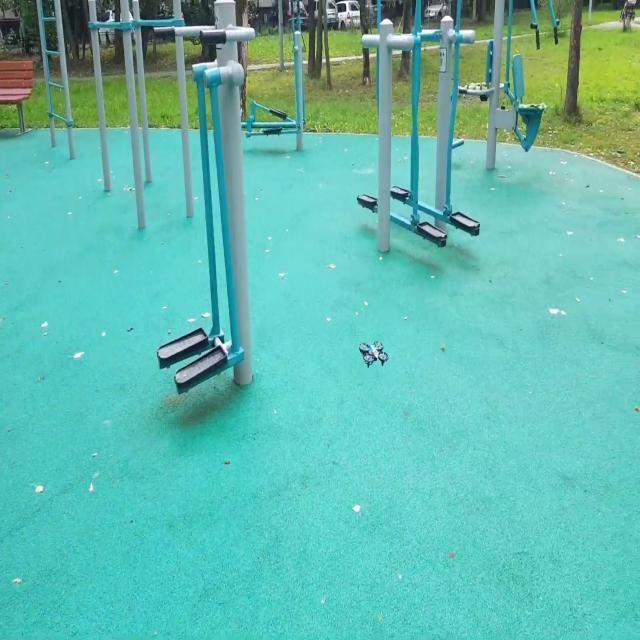Drons: (358, 339, 389, 369)
